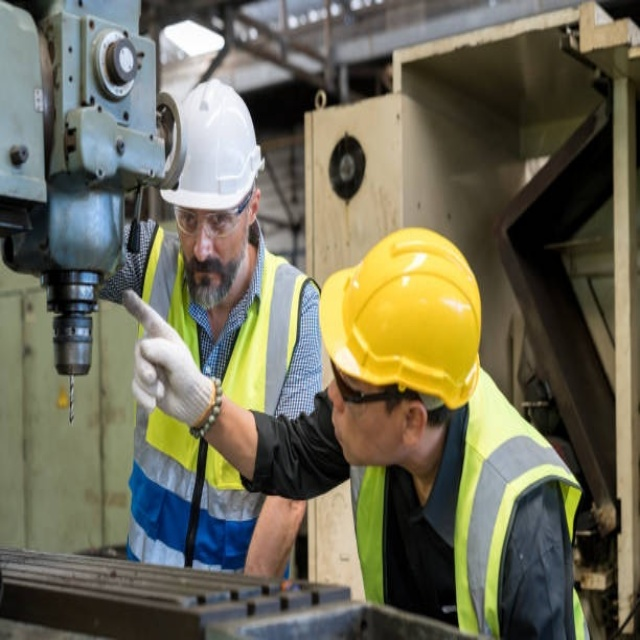Gafas: (328, 359, 409, 416), (168, 190, 254, 237)
Guantes: (127, 293, 218, 431)
Sin_mascara: (329, 408, 362, 469), (186, 259, 225, 301)
